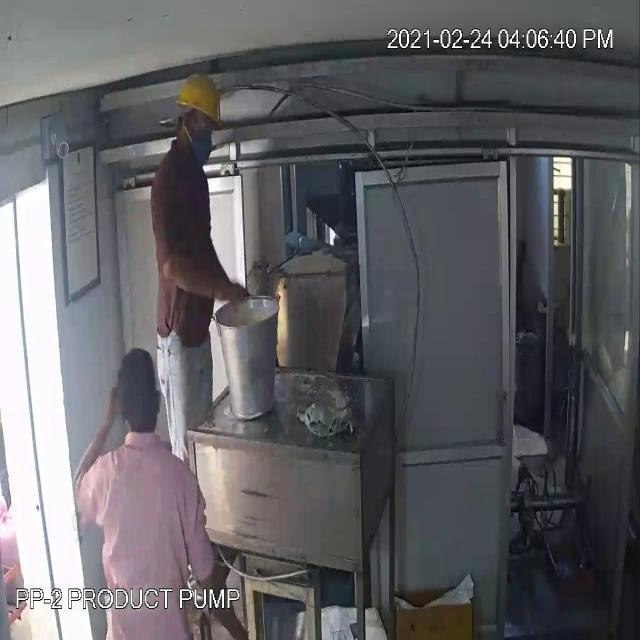helmet: (175, 67, 225, 121)
